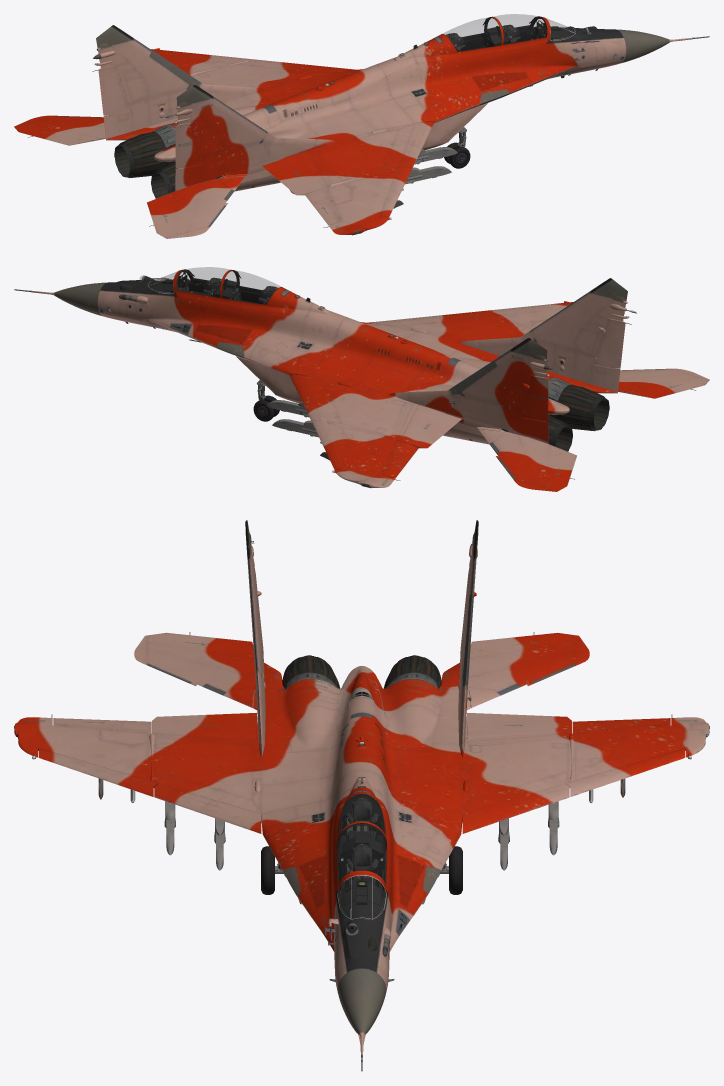
3 renders of one model, top to bottom at view 1: azimuth 30°, elevation 25°; view 2: azimuth 150°, elevation 25°; view 3: azimuth 270°, elevation 25°, orthographic. The views are drawn at different scales.
Parts seen in each view (by area): view 1: Object_41, Object_35, Object_32, Object_8, Object_20; view 2: Object_41, Object_35, Object_32, Object_8, Object_20; view 3: Object_41, Object_32, Object_35, Object_8, Object_38, Object_20.
Part boxes in pixels (x1,y1,x2,y2): Object_41: (14,16,709,238); Object_35: (443,14,546,51); Object_32: (445,16,575,51); Object_8: (405,147,457,184); Object_20: (444,127,470,168); Object_41: (14,269,709,491); Object_35: (177,267,280,304); Object_32: (148,269,278,304); Object_8: (266,400,318,437); Object_20: (253,380,279,421); Object_41: (14,520,709,1071); Object_32: (337,794,386,918); Object_35: (336,794,387,882); Object_8: (164,801,559,870); Object_38: (338,876,385,918); Object_20: (261,846,462,894).
Bounding box in the file's own units: 176 × 49.95 × 120.
Materials: 4 (2 with a texture image).
